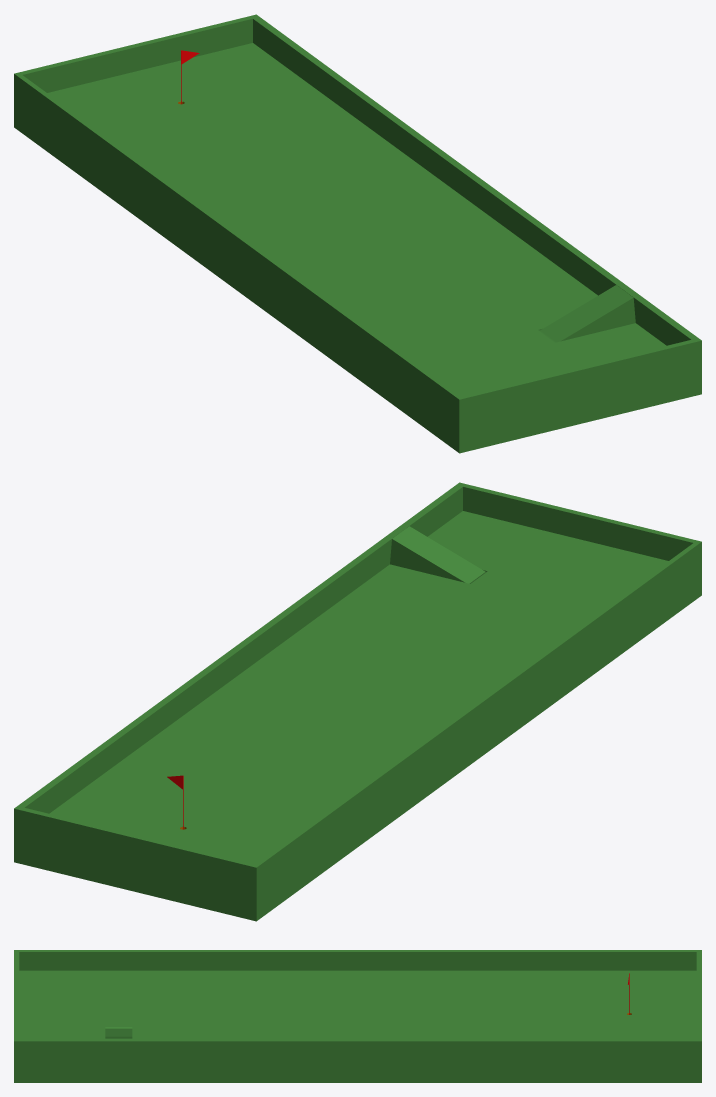
The model's file is level_1.glb.
3 renders of one model, top to bottom at view 1: azimuth 30°, elevation 25°; view 2: azimuth 150°, elevation 25°; view 3: azimuth 270°, elevation 25°, orthographic. The views are drawn at different scales.
Visible parts, largest first — view 1: green; view 2: green; view 3: green.
Boxes of the visible parts, x1=… form: green: x1=14, y1=14, x2=701, y2=453; green: x1=14, y1=482, x2=701, y2=921; green: x1=14, y1=950, x2=701, y2=1082.
Bounding box in the file's own units: 3.92 × 1.27 × 12.48.
